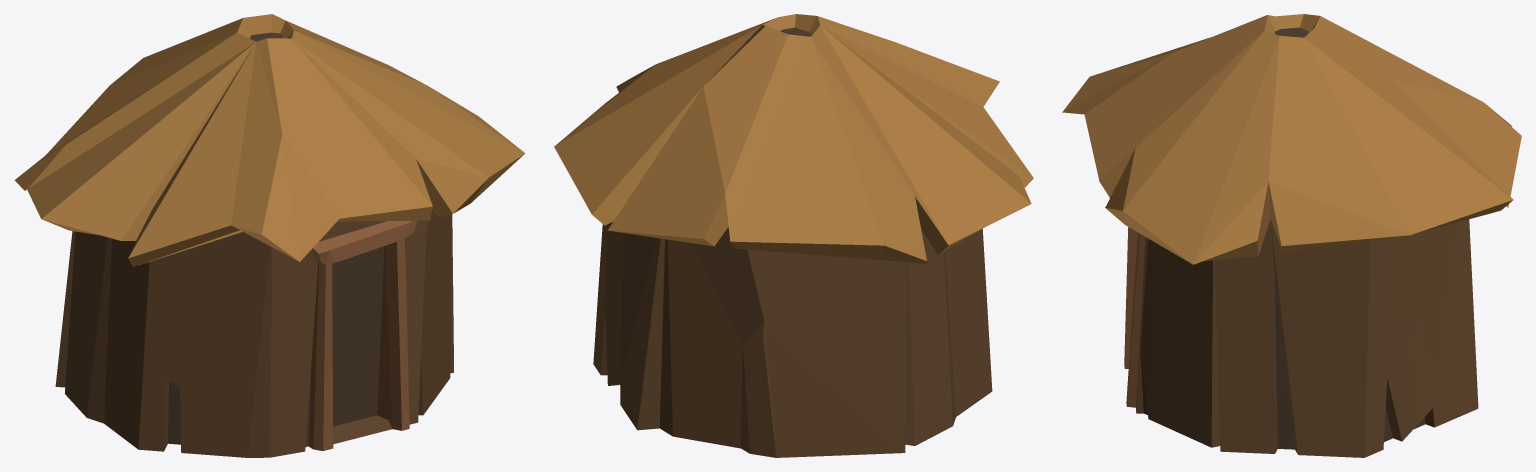
The model's file is pirates_pirate-hut-round.fbx.
3 views of the same model, side by side, from view 1: azimuth 30°, elevation 25°; view 2: azimuth 150°, elevation 25°; view 3: azimuth 270°, elevation 25° (orthographic).
Visible parts, largest first — view 1: pirates_pirate_hut_round; view 2: pirates_pirate_hut_round; view 3: pirates_pirate_hut_round.
Part boxes in pixels (x1,y1,x2,y2): pirates_pirate_hut_round: (14, 14, 525, 457); pirates_pirate_hut_round: (554, 14, 1033, 457); pirates_pirate_hut_round: (1062, 14, 1521, 457).
Bounding box in the file's own units: 200 × 155 × 180.
